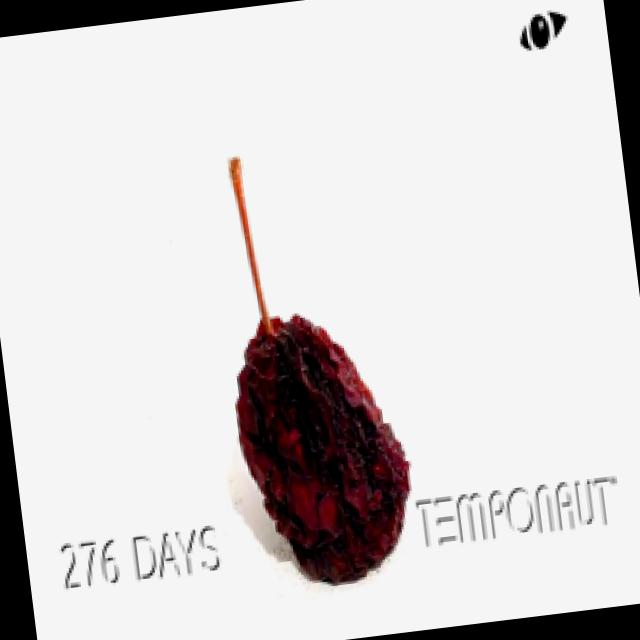Rotten_Apple: (156, 29, 476, 604)
